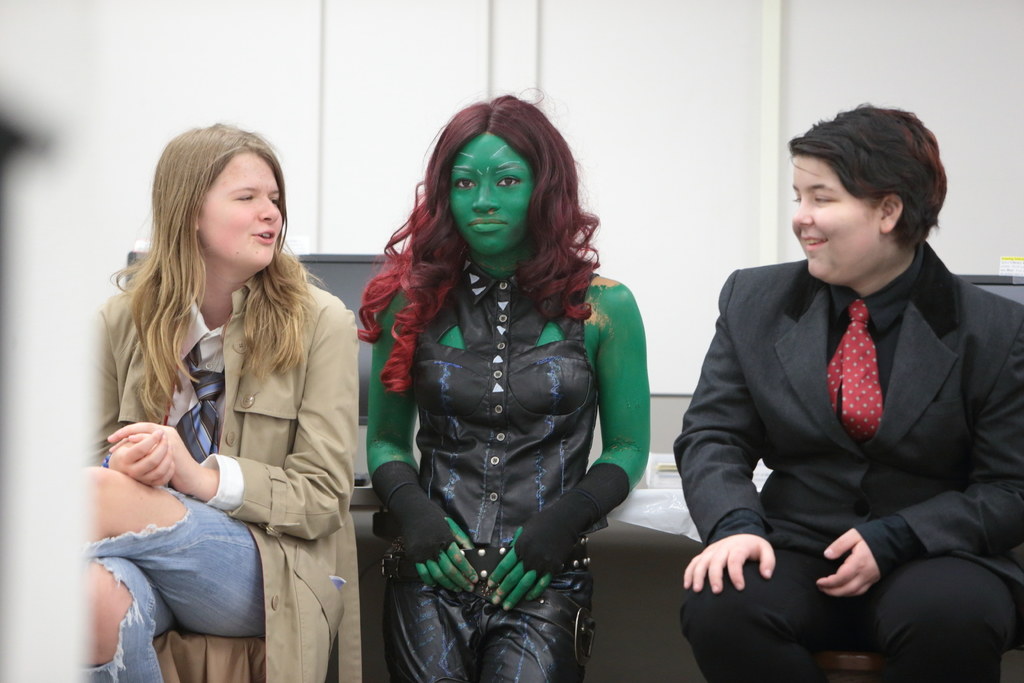Human-face: (790, 152, 874, 281), (449, 136, 531, 248), (207, 158, 283, 264)
